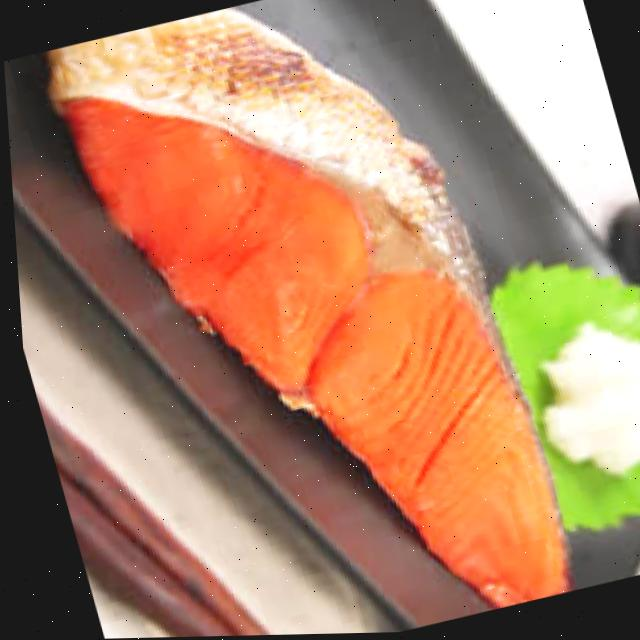熟制海鲜: (51, 0, 602, 639)
